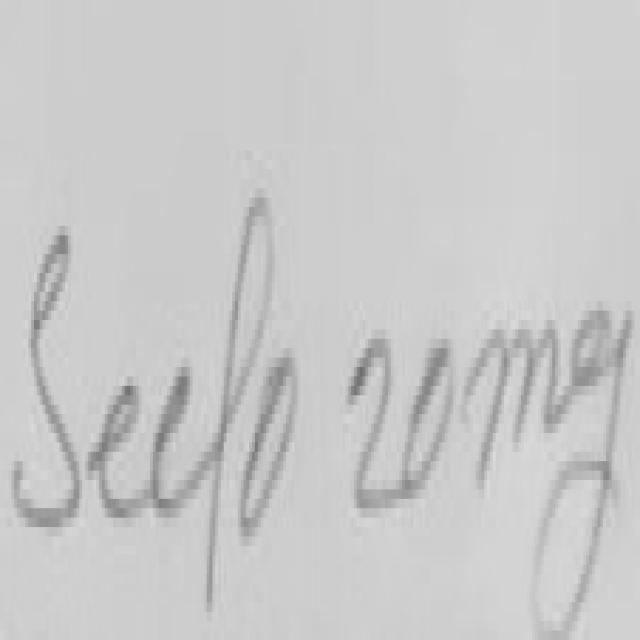0: (402, 348, 453, 499)
2: (351, 339, 399, 508)
e: (91, 386, 144, 518), (153, 367, 190, 508)
f: (190, 198, 275, 607)
g: (535, 311, 634, 640)
m: (464, 320, 561, 489)
o: (241, 358, 297, 536)
s: (14, 235, 79, 527)
